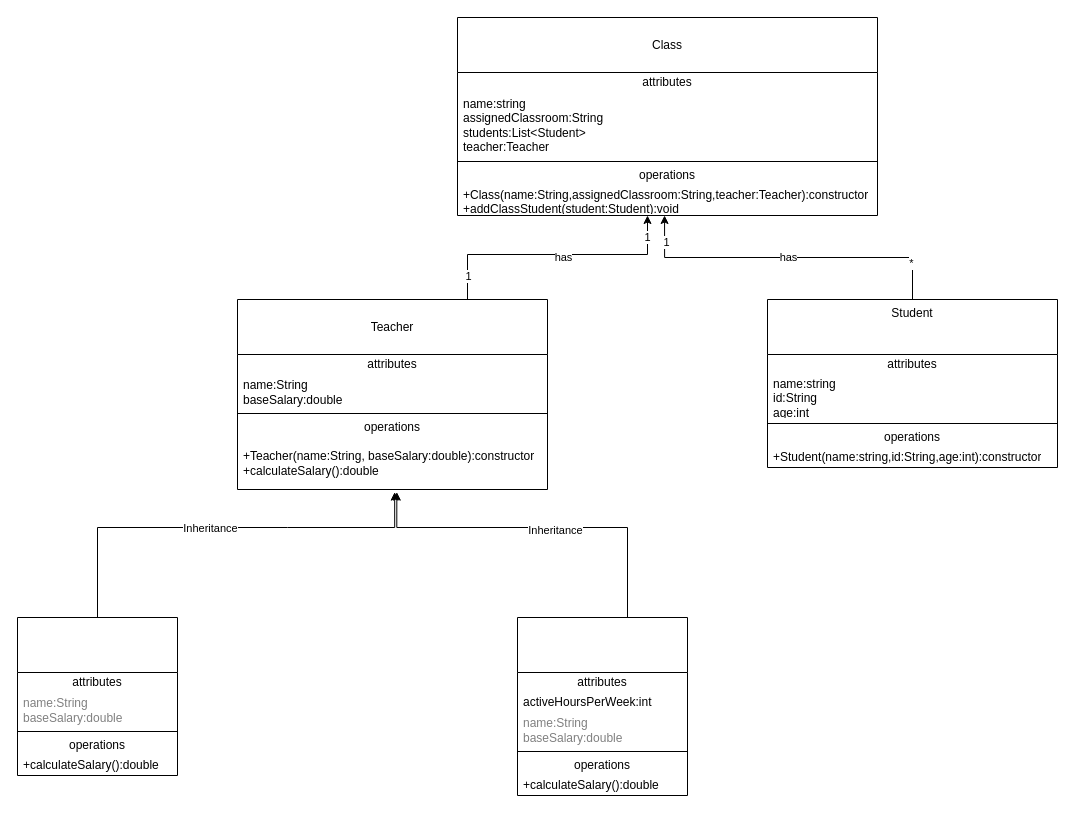
Image size: 1075x813. Some labels were removed from this diagram. The box of each missing label's shape, as (x1, y1, x2, y2) in pixels:
FullTimeTeacher: (16, 616, 178, 776)
PartTimeTeacher: (516, 616, 688, 796)
